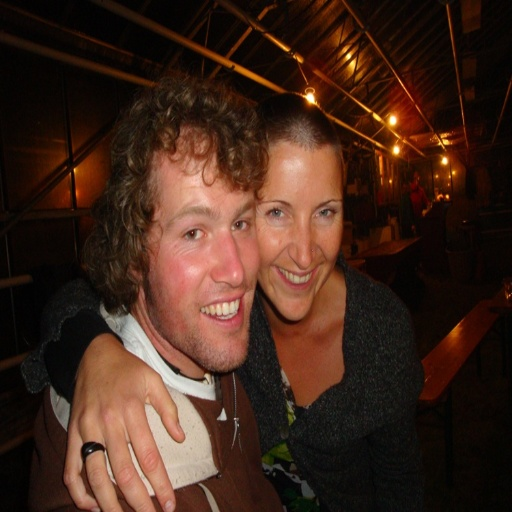hand: (66, 331, 184, 502)
